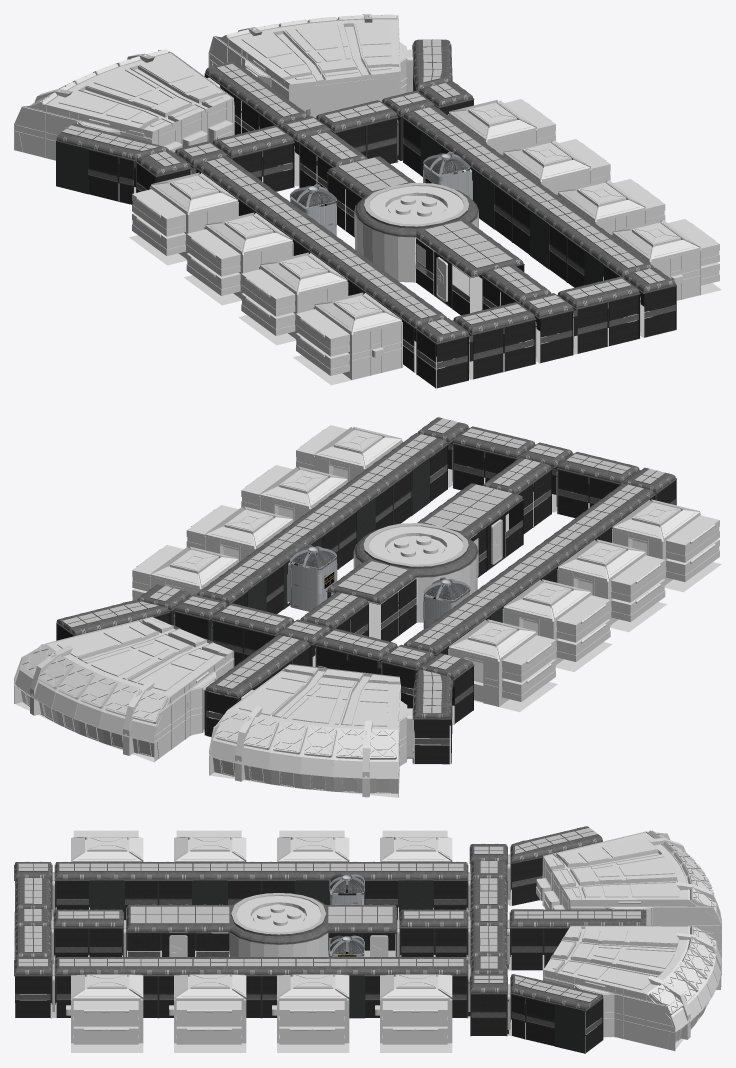
Rendered from MonitorCrewDeck.fbx.
The picture shows the model from 3 angles, top to bottom: view 1: azimuth 30°, elevation 25°; view 2: azimuth 150°, elevation 25°; view 3: azimuth 270°, elevation 25°; orthographic projection. The views are drawn at different scales.
Visible parts, largest first — view 1: Cube.007, Cube.165, Cube.171, Cube.002, Cube.003, Cube.218, Cube.017, Cube.117, Cube.202, Cube.191, Cube, Cube.073 (+9 smaller); view 2: Cube.007, Cube.002, Cube.171, Cube.003, Cube.165, Cube.191, Cube.202, Cube.117, Cube.218, Cube, Cube.017, Cube.001 (+9 smaller); view 3: Cube.007, Cube.165, Cube.171, Cube.003, Cube.002, Cube.017, Cube.001, Cube.037, Cube.057, Cube.073, Cube, Cube.161 (+11 smaller).
Part boxes in pixels (bbox=[...]): Cube.007: bbox=[56, 39, 676, 343]; Cube.165: bbox=[88, 67, 675, 388]; Cube.171: bbox=[62, 39, 672, 373]; Cube.002: bbox=[14, 49, 234, 160]; Cube.003: bbox=[208, 14, 412, 117]; Cube.218: bbox=[293, 292, 402, 385]; Cube.017: bbox=[56, 45, 676, 380]; Cube.117: bbox=[184, 212, 293, 305]; Cube.202: bbox=[238, 252, 348, 345]; Cube.191: bbox=[129, 172, 238, 265]; Cube: bbox=[354, 185, 478, 302]; Cube.073: bbox=[612, 219, 721, 300]; Cube.007: bbox=[56, 417, 676, 718]; Cube.002: bbox=[209, 664, 413, 797]; Cube.171: bbox=[61, 418, 670, 717]; Cube.003: bbox=[14, 616, 234, 762]; Cube.165: bbox=[57, 441, 675, 764]; Cube.191: bbox=[448, 619, 557, 712]; Cube.202: bbox=[557, 539, 666, 632]; Cube.117: bbox=[502, 579, 612, 672]; Cube.218: bbox=[612, 499, 721, 592]; Cube: bbox=[326, 519, 502, 622]; Cube.017: bbox=[56, 443, 676, 762]; Cube.001: bbox=[186, 505, 293, 561]; Cube.007: bbox=[14, 826, 646, 1010]; Cube.165: bbox=[14, 858, 602, 1052]; Cube.171: bbox=[15, 827, 640, 1029]; Cube.003: bbox=[543, 925, 721, 1051]; Cube.002: bbox=[536, 830, 721, 949]; Cube.017: bbox=[15, 864, 603, 1053]; Cube.001: bbox=[272, 974, 349, 1052]; Cube.037: bbox=[375, 974, 452, 1052]; Cube.057: bbox=[169, 974, 246, 1052]; Cube.073: bbox=[66, 974, 143, 1052]; Cube: bbox=[169, 895, 396, 956]; Cube.161: bbox=[14, 857, 602, 1034].
Bounding box in the file's own units: 8109 × 1183 × 13335.
